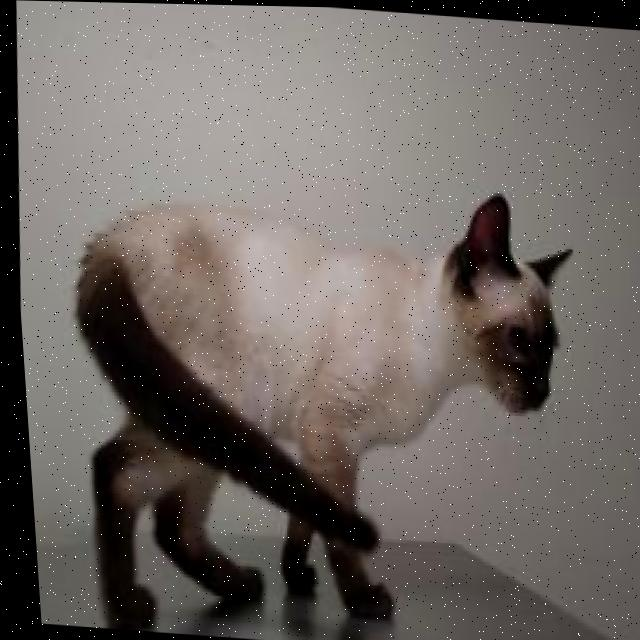Siamese: (43, 155, 598, 640)
